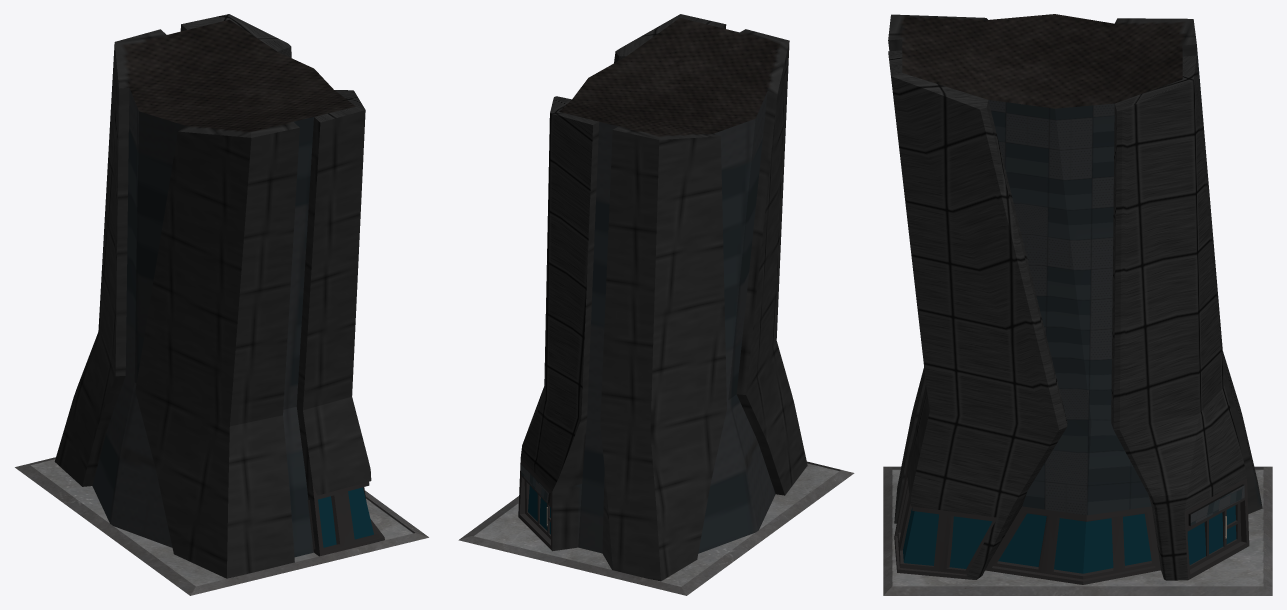
File: Bat_Joliette_3.1.fbx
The picture shows the model from 3 angles, left to right: view 1: azimuth 30°, elevation 25°; view 2: azimuth 150°, elevation 25°; view 3: azimuth 270°, elevation 25°; orthographic projection. The views are drawn at different scales.
Parts seen in each view (by area): view 1: Bat_Joliette_3.1; view 2: Bat_Joliette_3.1; view 3: Bat_Joliette_3.1.
Part boxes in pixels (<box>): Bat_Joliette_3.1: <box>15,14,428,595</box>; Bat_Joliette_3.1: <box>458,14,854,595</box>; Bat_Joliette_3.1: <box>883,14,1272,595</box>.
Bounding box in the file's own units: 2257 × 3969 × 2872.
